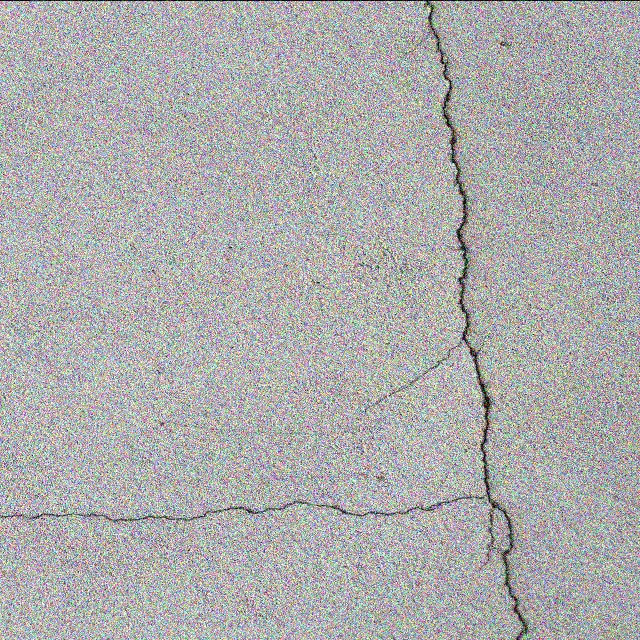SurfaceCrack: (390, 0, 533, 640), (0, 464, 533, 554)
